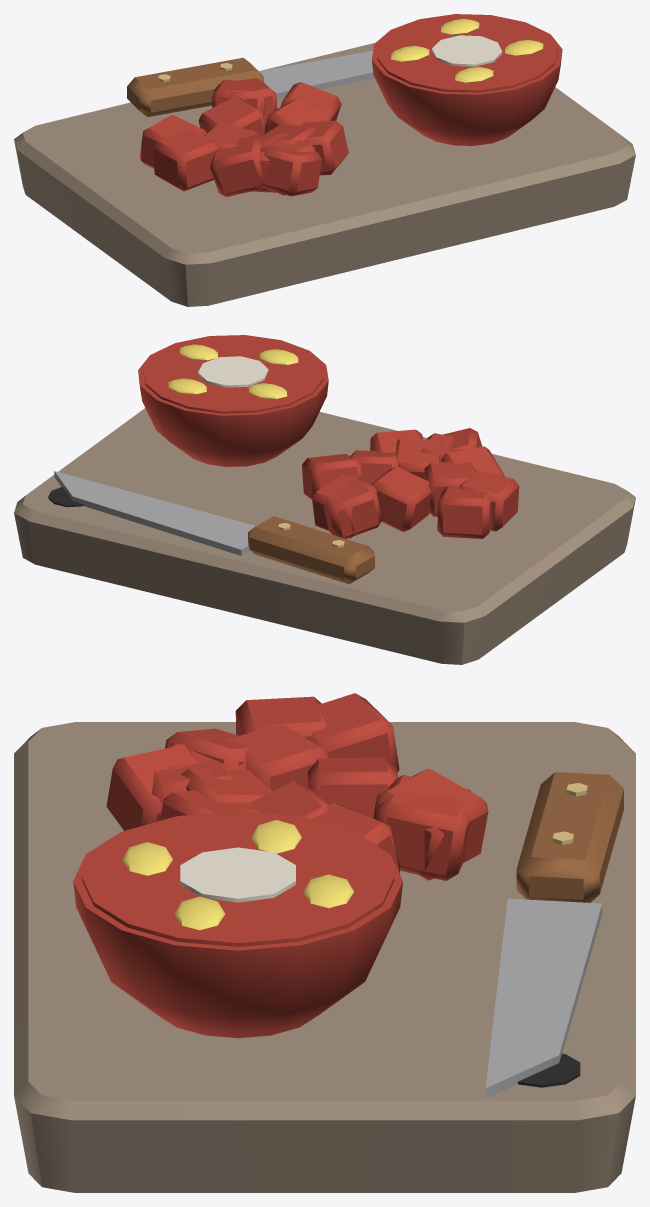
Rendered from cook_chopped_tomato.glb.
3 renders of one model, top to bottom at view 1: azimuth 30°, elevation 25°; view 2: azimuth 150°, elevation 25°; view 3: azimuth 270°, elevation 25°, orthographic. The views are drawn at different scales.
Parts seen in each view (by area): view 1: body; view 2: body; view 3: body.
Part boxes in pixels (<box>): body: <box>14,14,635,306</box>; body: <box>14,335,635,664</box>; body: <box>14,693,635,1192</box>.
Bounding box in the file's own units: 0.064 × 0.0179 × 0.043.
